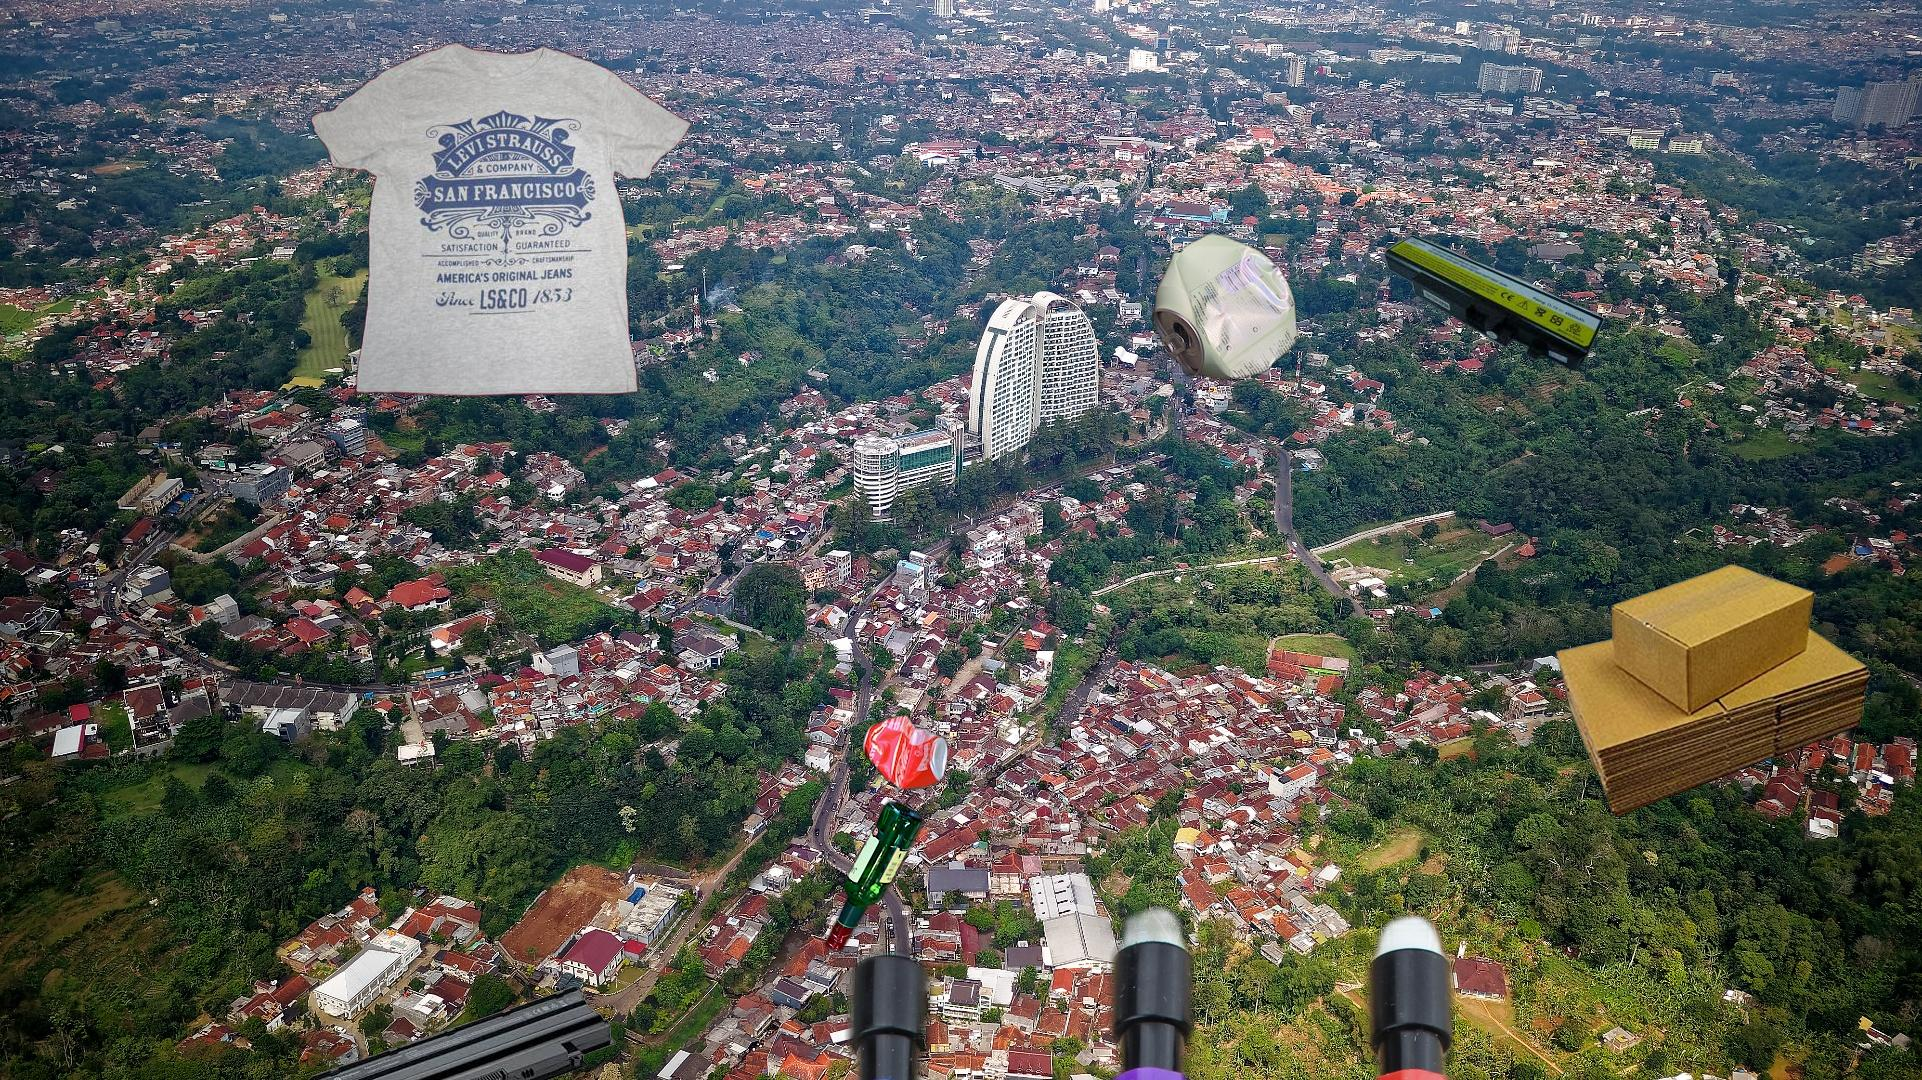battery: (1381, 228, 1610, 374), (308, 984, 618, 1080)
clothes: (308, 37, 694, 401)
glass: (820, 795, 1254, 994)
metal-cans: (512, 709, 1024, 1055), (1144, 226, 1302, 386)
penholder: (787, 871, 1486, 1080)
trashbox-cardboard: (1554, 562, 1874, 819)
